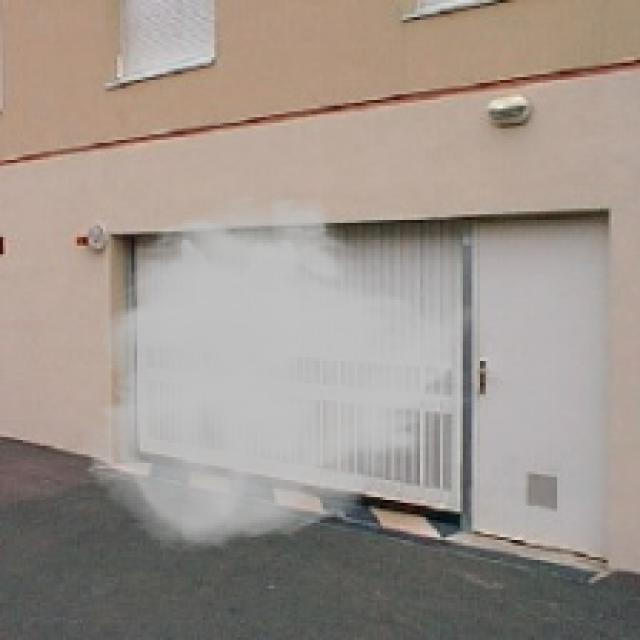smoke: (80, 192, 483, 554)
